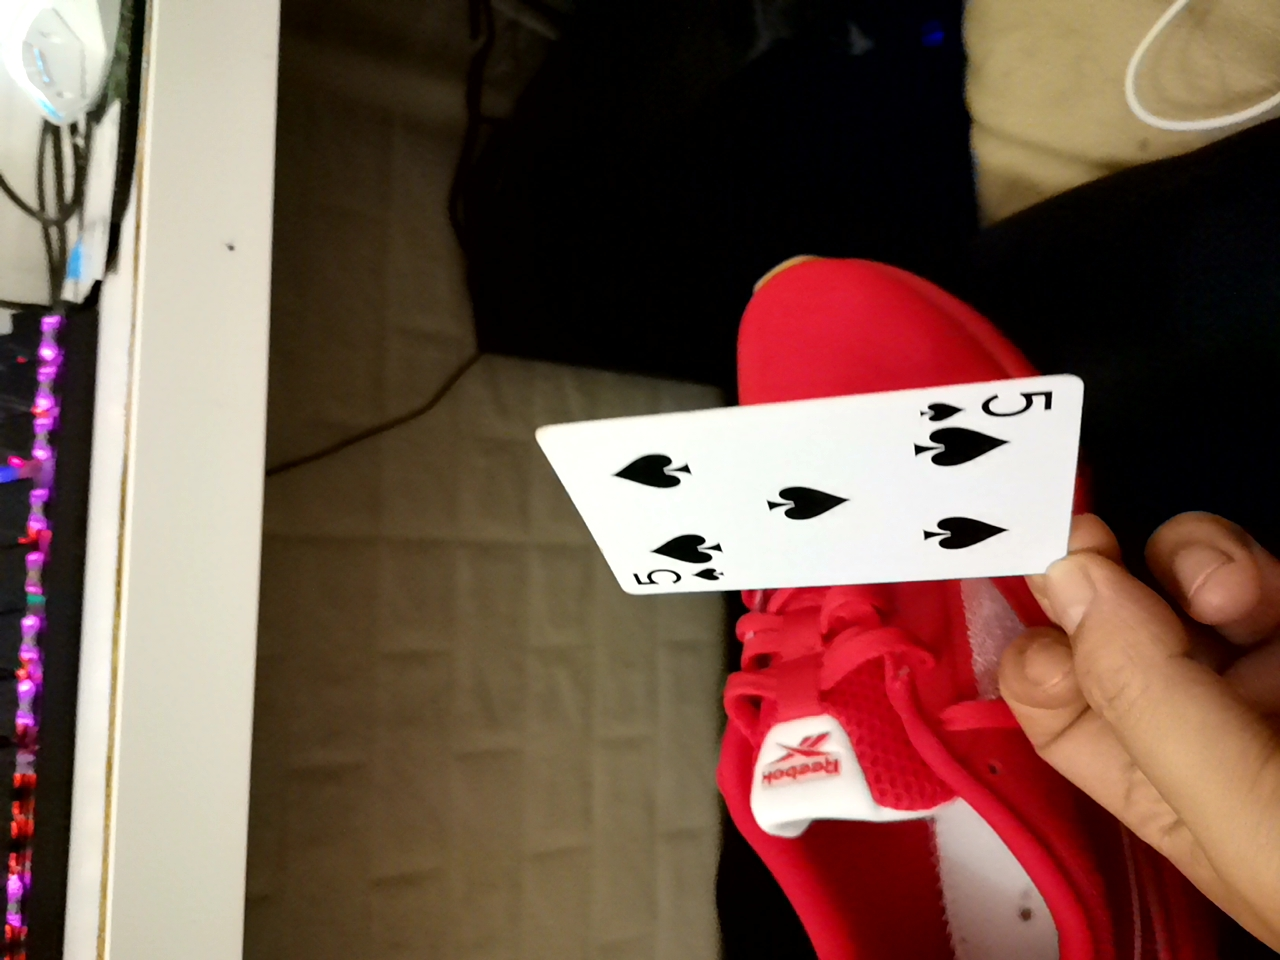ht 5: (514, 385, 1099, 626)
